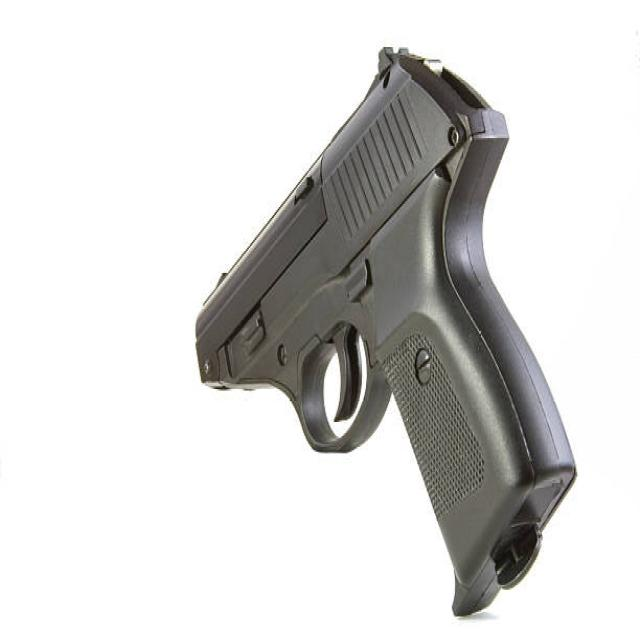pistol: (189, 43, 581, 626)
